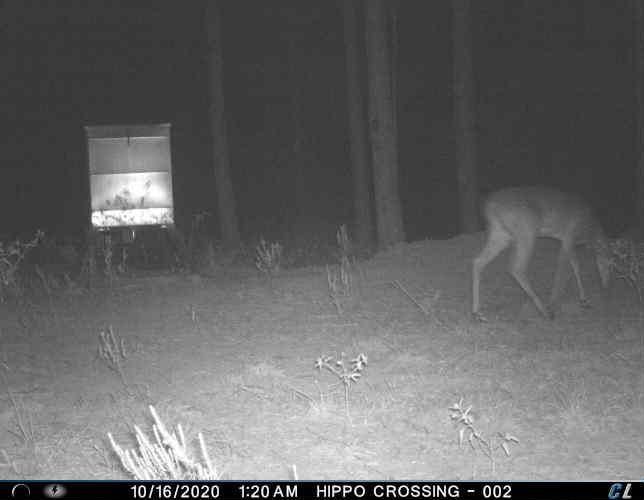Deer: (468, 183, 620, 321)
